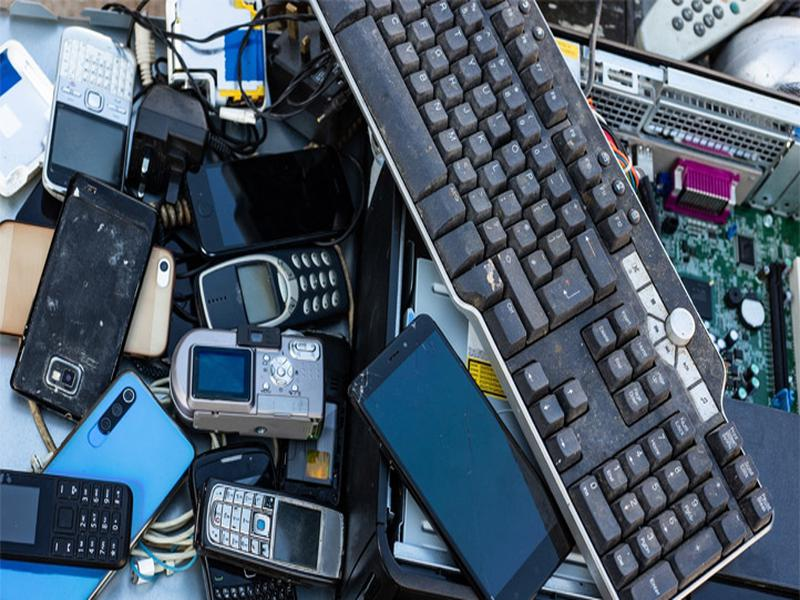keyboard: (304, 1, 782, 599)
